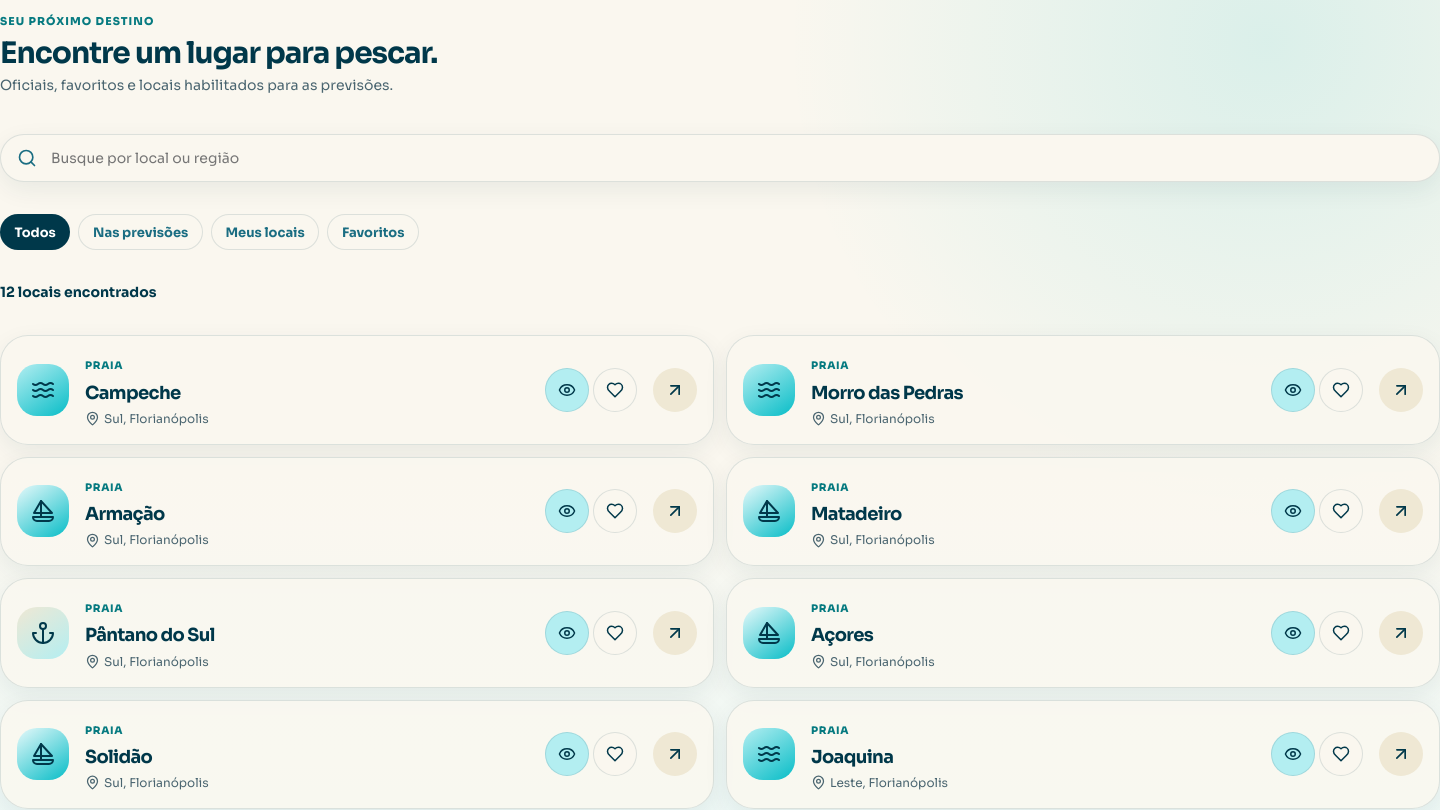
Test case: LocationsPage › filtra a lista de favoritos
Expected: the heading "Campeche" is shown, [85, 382, 181, 404]
Click the button "Favoritos" at (373, 232), box [327, 214, 419, 250]
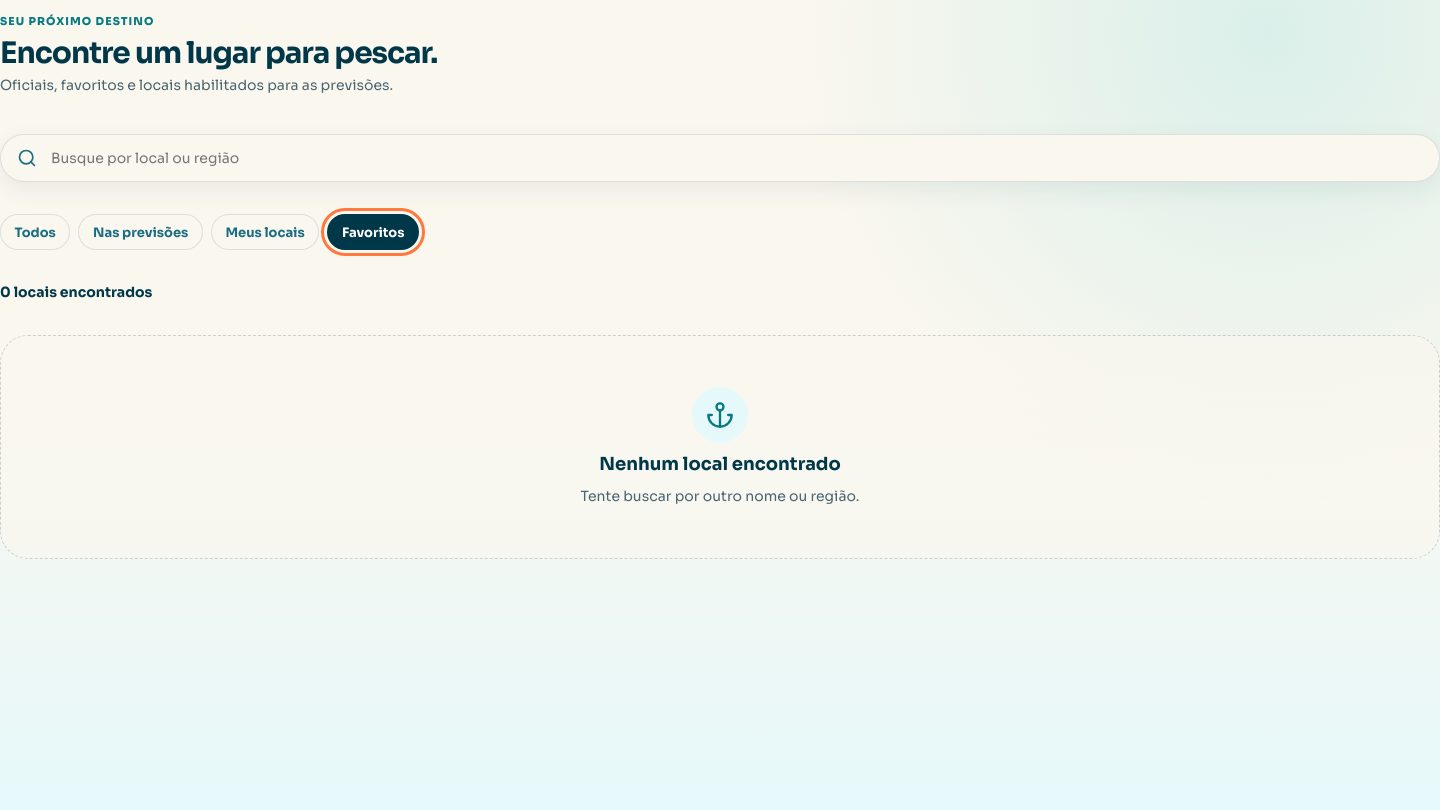
Result: the text "Nenhum local encontrado" is shown at [599, 451, 841, 478]
